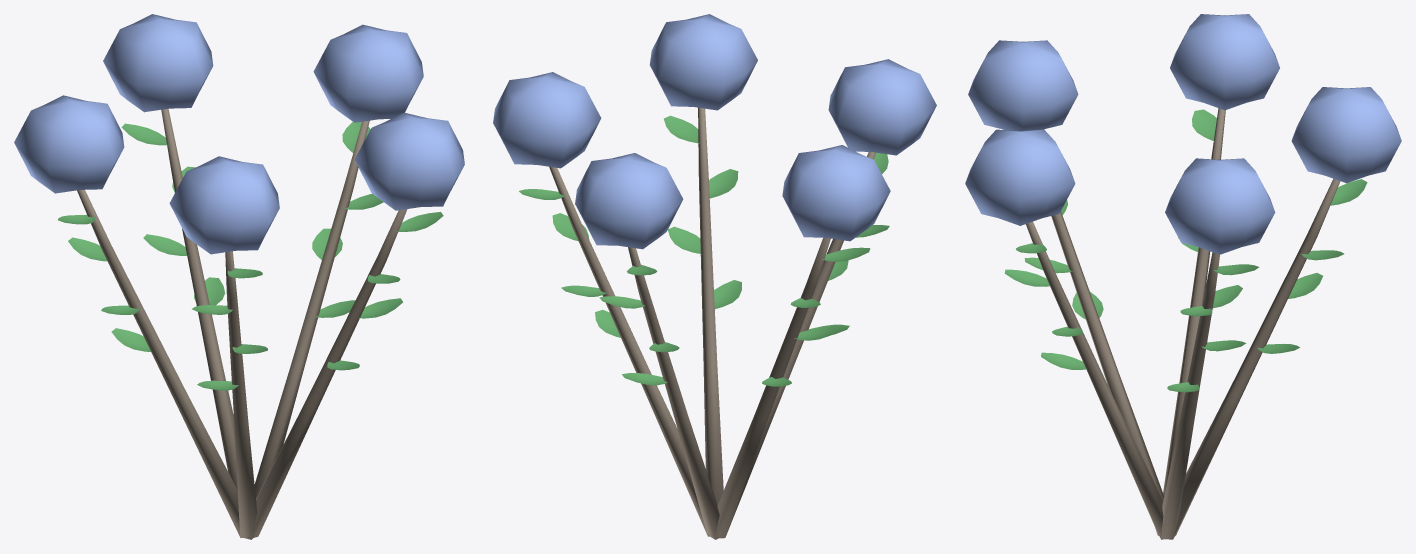
File: shrub_wild_hydrangea.glb
The picture shows the model from 3 angles, left to right: view 1: azimuth 30°, elevation 25°; view 2: azimuth 150°, elevation 25°; view 3: azimuth 270°, elevation 25°; orthographic projection.
Parts seen in each view (by area): view 1: Flora_Wild_Hydrangea; view 2: Flora_Wild_Hydrangea; view 3: Flora_Wild_Hydrangea.
Part boxes in pixels (bbox=[...]): Flora_Wild_Hydrangea: bbox=[14, 14, 464, 539]; Flora_Wild_Hydrangea: bbox=[493, 14, 936, 539]; Flora_Wild_Hydrangea: bbox=[965, 14, 1401, 539].
Bounding box in the file's own units: 1.31 × 1.43 × 1.26.
